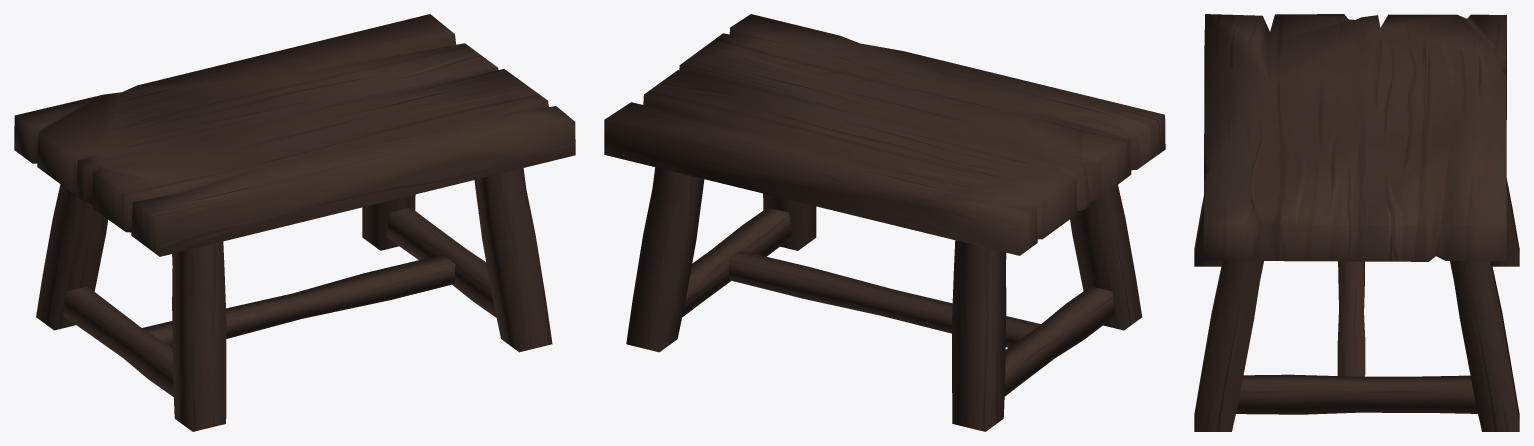
File: table1.FBX
3 renders of one model, left to right at view 1: azimuth 30°, elevation 25°; view 2: azimuth 150°, elevation 25°; view 3: azimuth 270°, elevation 25°, orthographic. The views are drawn at different scales.
Visible parts, largest first — view 1: table1; view 2: table1; view 3: table1.
Boxes of the visible parts, box(x1,y1,x2,y2) form: table1: box(14, 14, 575, 431); table1: box(604, 14, 1165, 431); table1: box(1194, 14, 1519, 431).
Size of the model in its own units: 69.78 by 45.56 by 34.23.
1 material, 1 textured.
